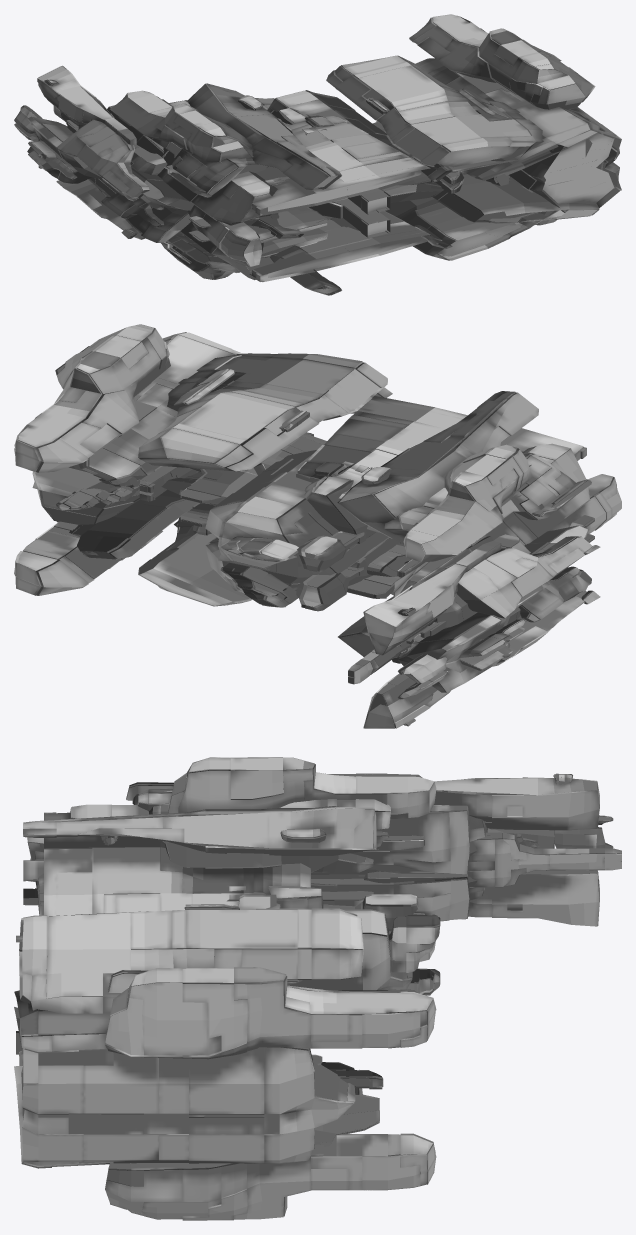
The model's file is MOTHERSHIP_000.fbx.
3 views of the same model, one above another, from view 1: azimuth 30°, elevation 25°; view 2: azimuth 150°, elevation 25°; view 3: azimuth 270°, elevation 25° (orthographic). The views are drawn at different scales.
Visible parts, largest first — view 1: MOTHERSHIP_000; view 2: MOTHERSHIP_000; view 3: MOTHERSHIP_000.
Part boxes in pixels (x1,y1,x2,y2): MOTHERSHIP_000: (14,14,621,295); MOTHERSHIP_000: (14,324,621,728); MOTHERSHIP_000: (14,757,621,1220).
Size of the model in its own units: 98.45 by 78.8 by 33.95.
Materials: 1 (1 with a texture image).
